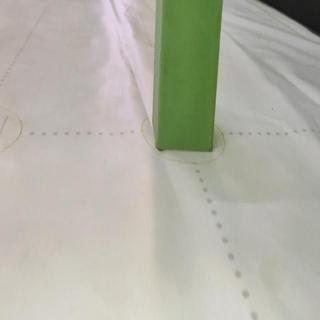greenbox: (153, 0, 224, 153)
